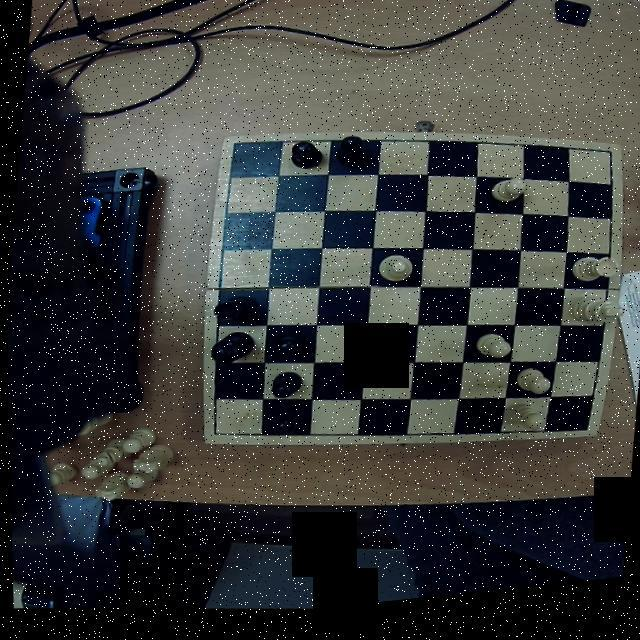chess-table-corners: (222, 139, 250, 164), (200, 422, 224, 447), (567, 430, 596, 450), (597, 158, 621, 180)
